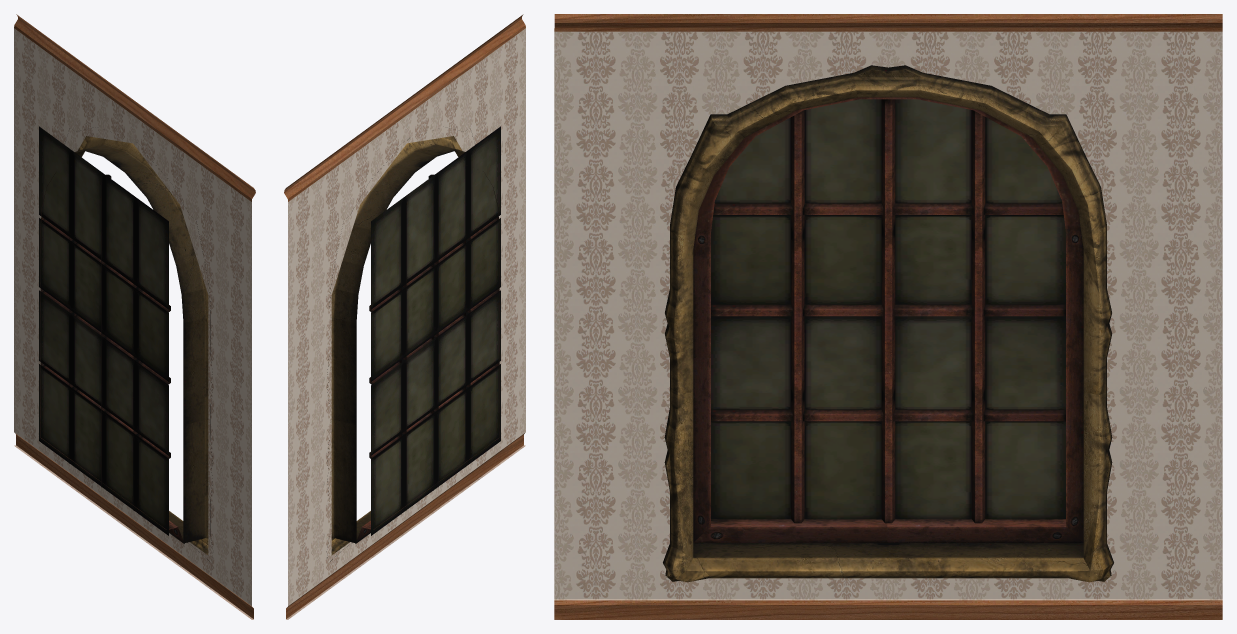
Rendered from fine_bright_big_window.dae.
3 views of the same model, side by side, from view 1: azimuth 30°, elevation 25°; view 2: azimuth 150°, elevation 25°; view 3: azimuth 270°, elevation 25° (orthographic). The views are drawn at different scales.
Parts seen in each view (by area): view 1: Plane_004, window02_large_glass_, window02_large_frame3; view 2: Plane_004, window02_large_glass_, window02_large_frame3; view 3: Plane_004, window02_large_glass_, window02_large_frame3.
Boxes of the visible parts, box(x1,y1,x2,y2) form: Plane_004: box(14, 14, 255, 619); window02_large_glass_: box(39, 126, 168, 535); window02_large_frame3: box(40, 128, 212, 561); Plane_004: box(284, 14, 525, 619); window02_large_glass_: box(371, 126, 500, 535); window02_large_frame3: box(326, 136, 499, 561); Plane_004: box(554, 14, 1222, 619); window02_large_glass_: box(711, 99, 1065, 519); window02_large_frame3: box(663, 65, 1113, 582).
Bounding box in the file's own units: 0.4034 × 4 × 4.
